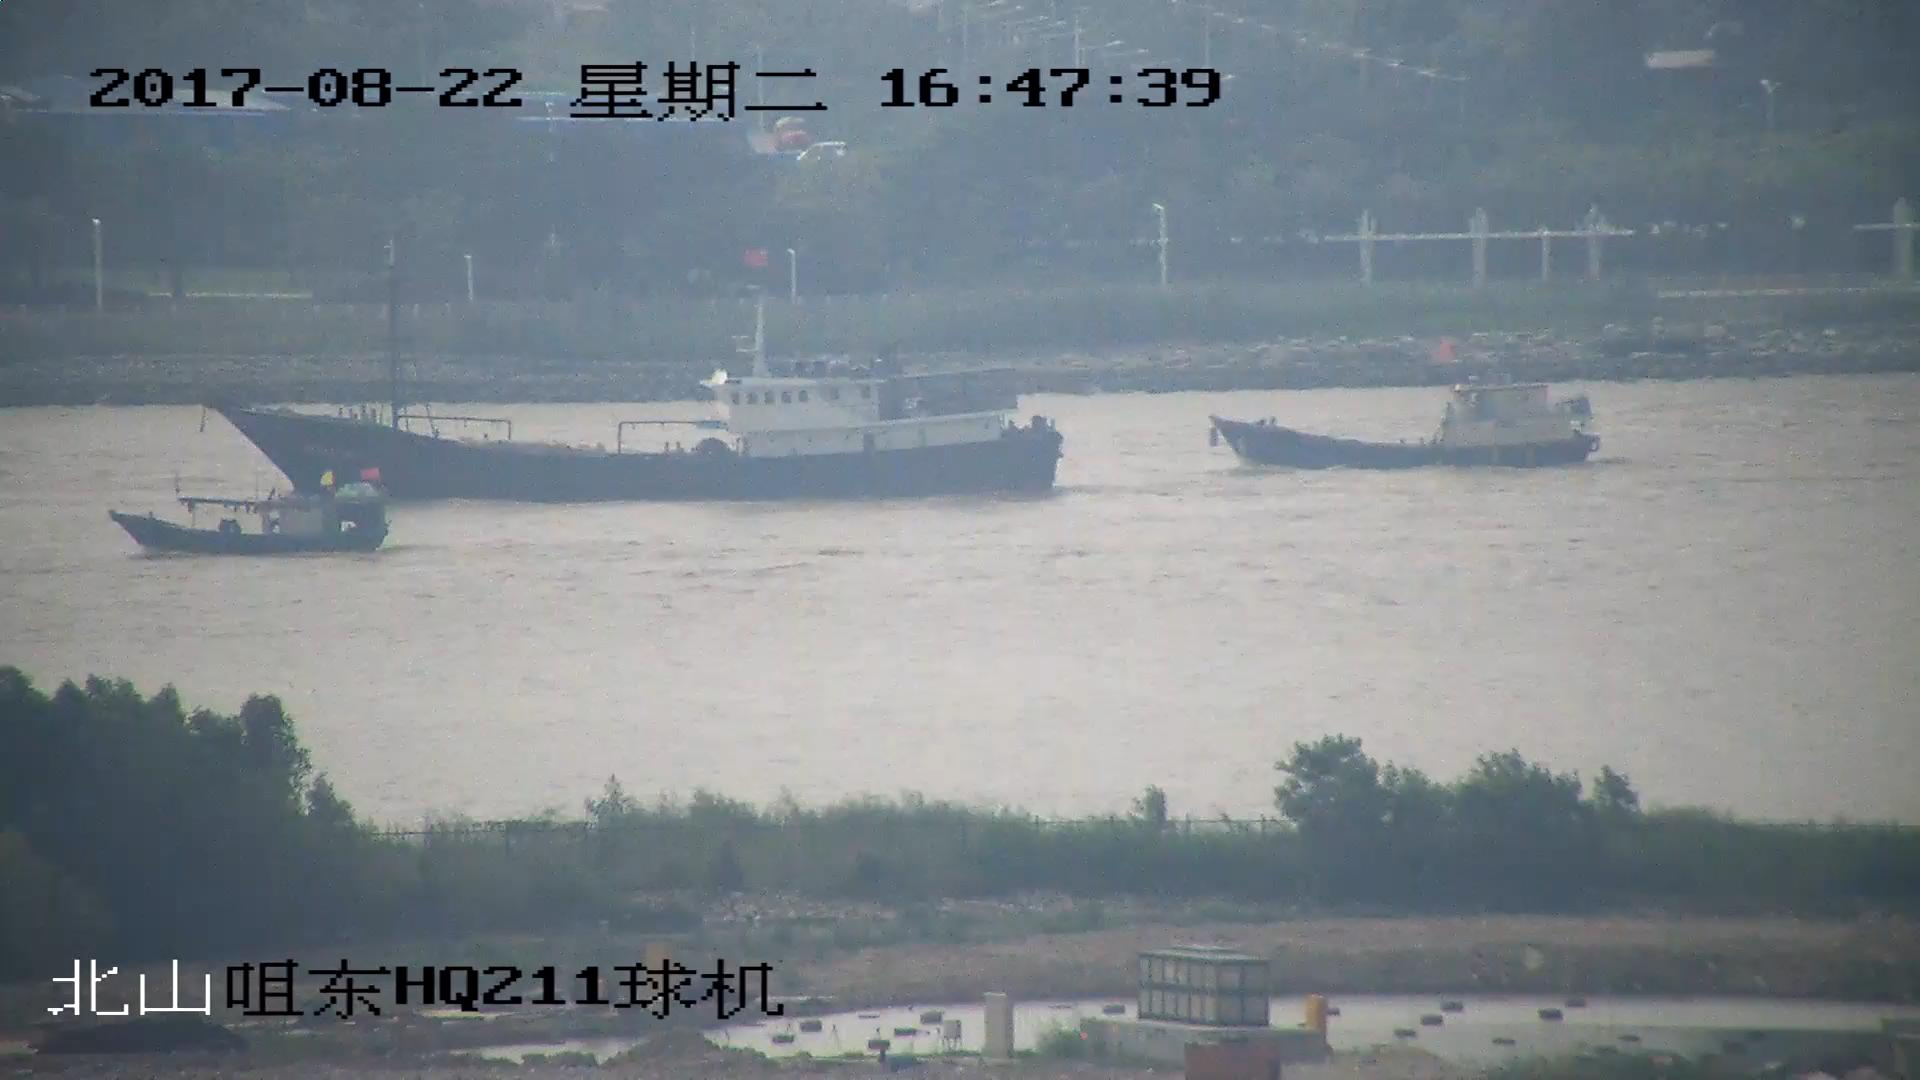fishing boat: (197, 241, 1063, 512), (1210, 344, 1601, 474), (118, 471, 393, 558)
